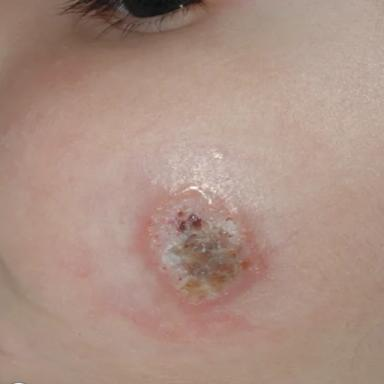Leishmanios: (136, 186, 267, 306)
